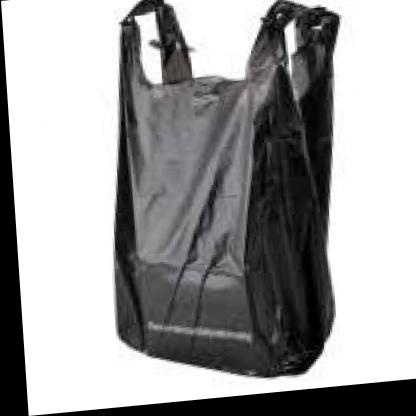trash: (115, 0, 338, 375)
